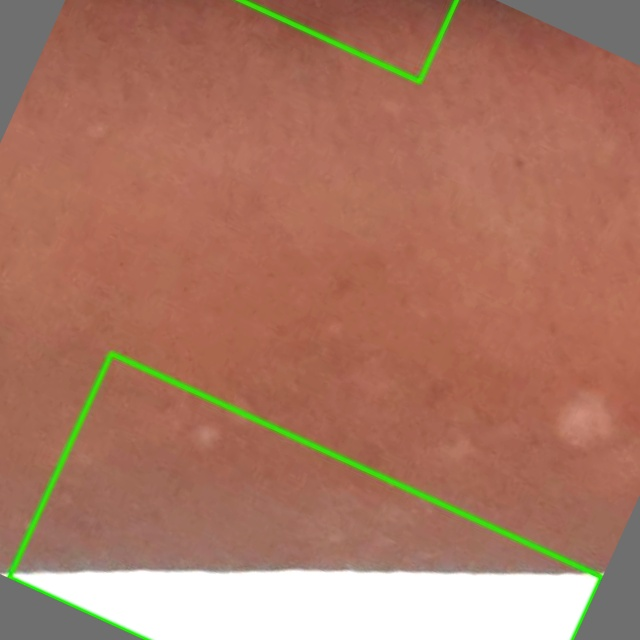Atopic Dermatitis: (9, 353, 601, 639)
